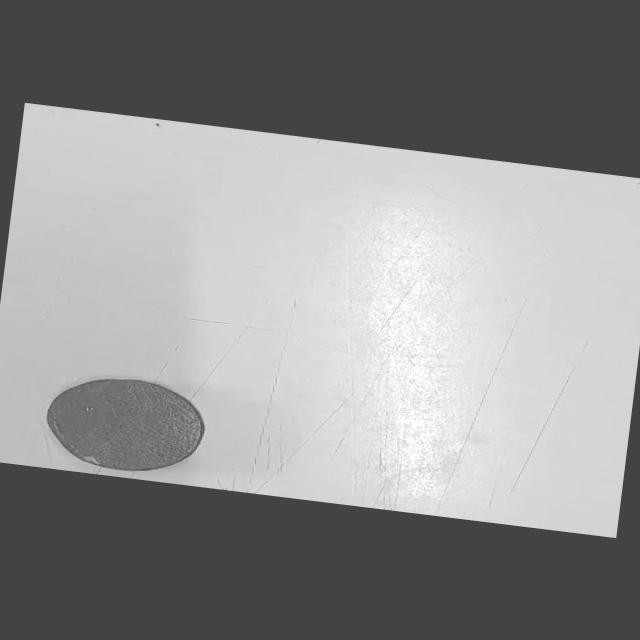rcircle: (46, 379, 205, 472)
